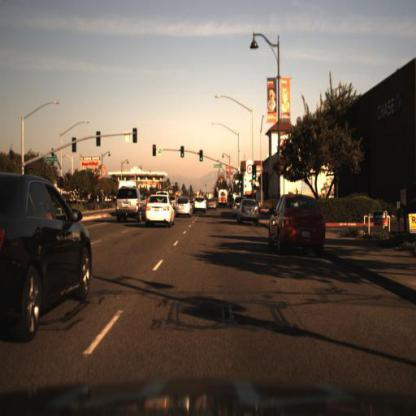car: (0, 170, 95, 338), (266, 186, 326, 257), (266, 191, 328, 251), (113, 184, 151, 224), (141, 191, 176, 229), (237, 196, 262, 222), (173, 194, 192, 220), (194, 194, 208, 216)
trafficLight-Green: (252, 161, 260, 183), (250, 161, 256, 180), (197, 147, 204, 163), (179, 141, 184, 160), (237, 172, 243, 187)
trafficLight-RedLeft: (151, 141, 158, 164)
truck: (216, 186, 228, 206)
